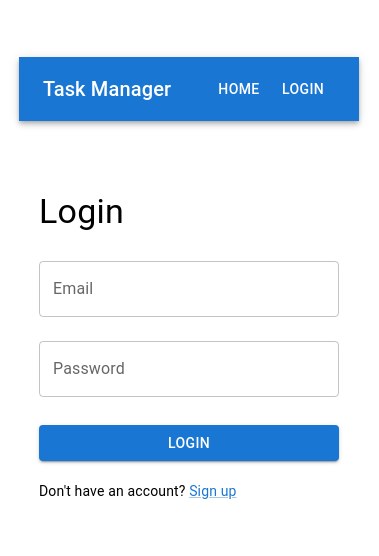
Test: navigates to signup page
This screenshot has width=379, height=556.
Click the link "Sign up" at (213, 491), box [189,483,237,499]
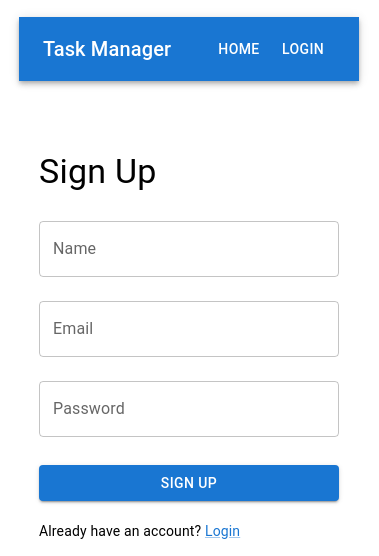
Result: the button "Sign Up" is shown at [39,465,339,501]
